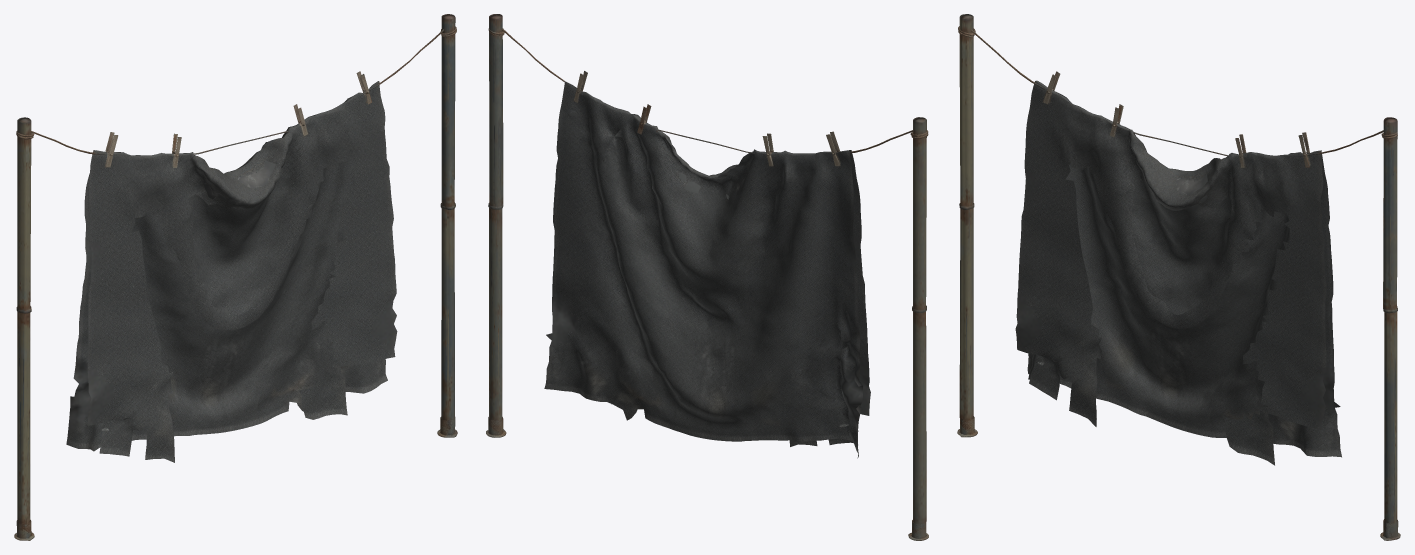
Rendered from silo81_curtain.glb.
3 renders of one model, left to right at view 1: azimuth 30°, elevation 25°; view 2: azimuth 150°, elevation 25°; view 3: azimuth 330°, elevation 25°, orthographic.
Bounding box in the file's own units: 0.9541 × 0.8618 × 0.0874.
1 material, 1 textured.
